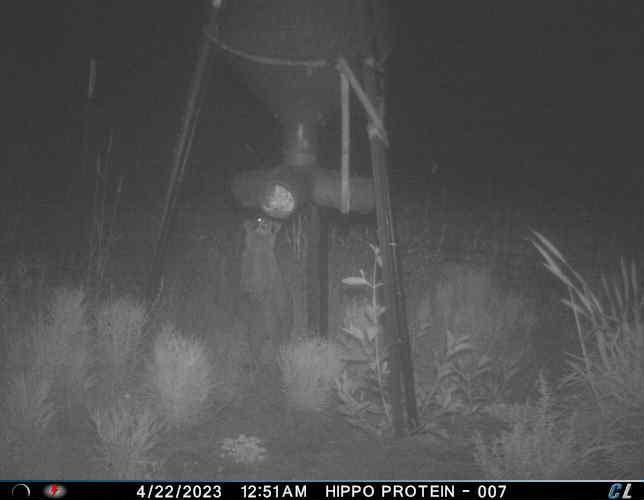Raccoon: (239, 211, 296, 373)
